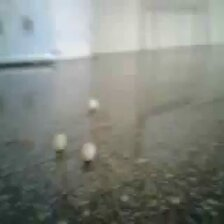w: (52, 134, 68, 151), (79, 143, 95, 160), (88, 99, 99, 110)
